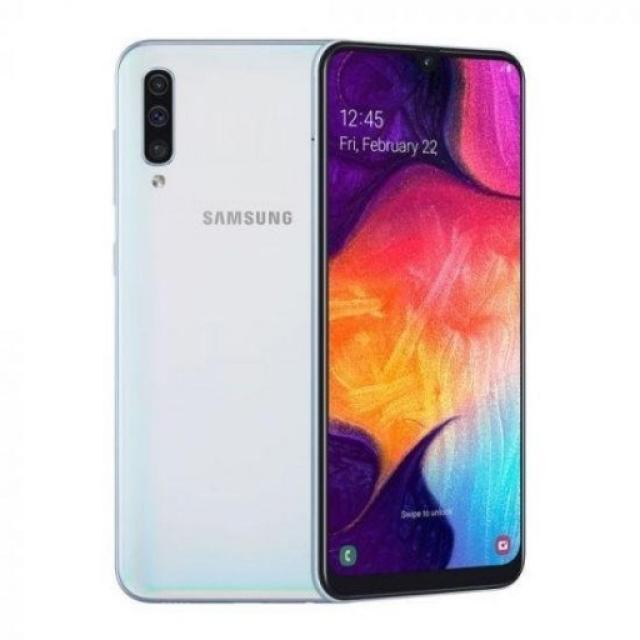phone: (110, 34, 324, 612), (316, 43, 532, 604)
